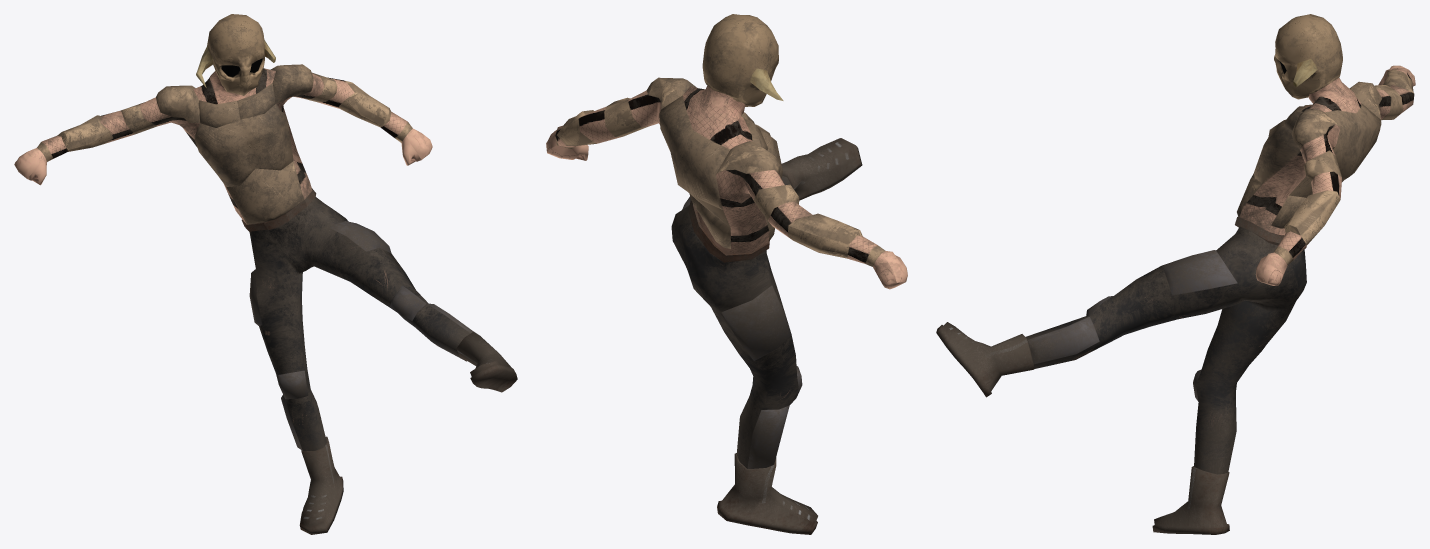
The model's file is Anim_ataque_f3_npc1.0029.obj.
The picture shows the model from 3 angles, left to right: view 1: azimuth 30°, elevation 25°; view 2: azimuth 150°, elevation 25°; view 3: azimuth 270°, elevation 25°; orthographic projection. The views are drawn at different scales.
Visible parts, largest first — view 1: NPC2; view 2: NPC2; view 3: NPC2.
Part boxes in pixels (box(x1,y1,x2,y2)): NPC2: box(14, 14, 517, 534); NPC2: box(546, 14, 907, 534); NPC2: box(936, 14, 1415, 534).
Bounding box in the file's own units: 7.44 × 9.43 × 8.08.
